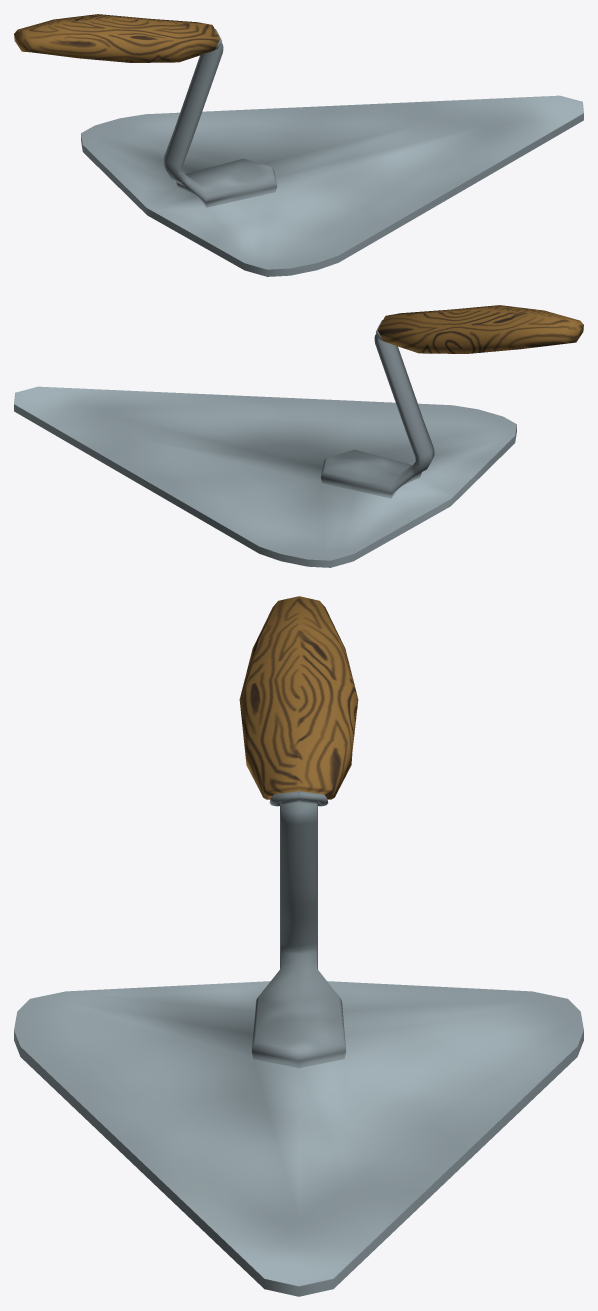
Rendered from trowel.fbx.
3 renders of one model, top to bottom at view 1: azimuth 30°, elevation 25°; view 2: azimuth 150°, elevation 25°; view 3: azimuth 270°, elevation 25°, orthographic. The views are drawn at different scales.
Parts seen in each view (by area): view 1: trowel; view 2: trowel; view 3: trowel.
Boxes of the visible parts, x1,y1,x2,y2 form: trowel: (14,14,583,276); trowel: (14,305,583,567); trowel: (14,596,583,1296).
Bounding box in the file's own units: 0.2966 × 0.1077 × 0.1801.
Materials: 2 (2 with a texture image).
